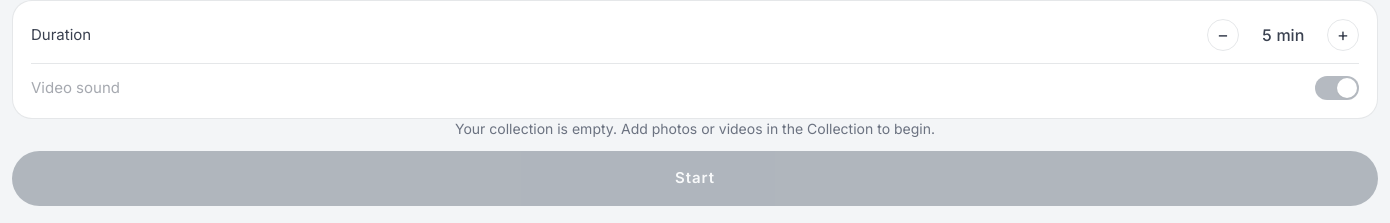
Test case: PracticeScreen duration › persists a change as the new last-used duration
Click the button named "Increase Duration": (1343,35) [1327,19,1359,51]
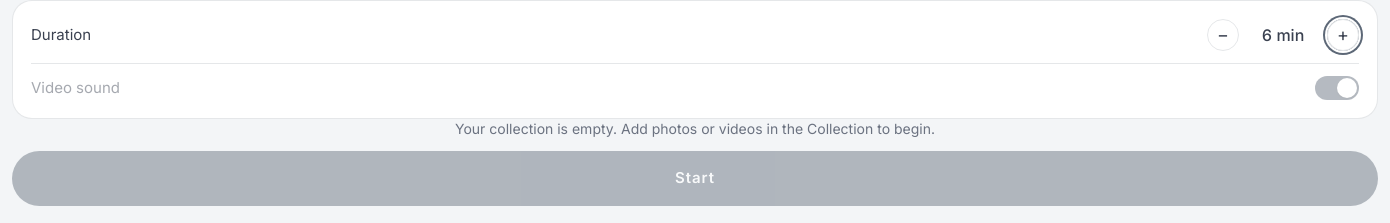
Result: the text "6 min" is shown at [1262,25,1304,45]
